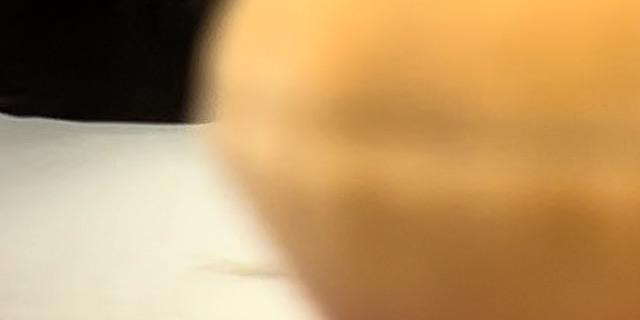burger: (205, 0, 640, 320)
